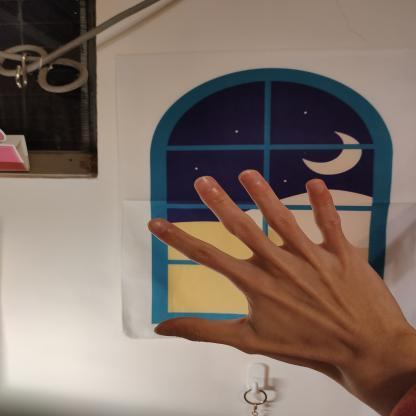bare_hand: (138, 158, 415, 381)
